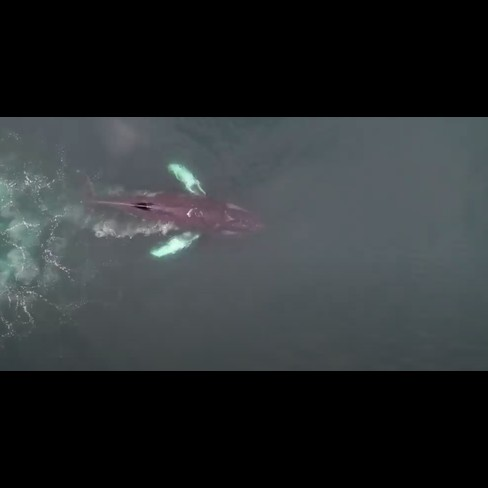hump: (59, 153, 271, 269)
